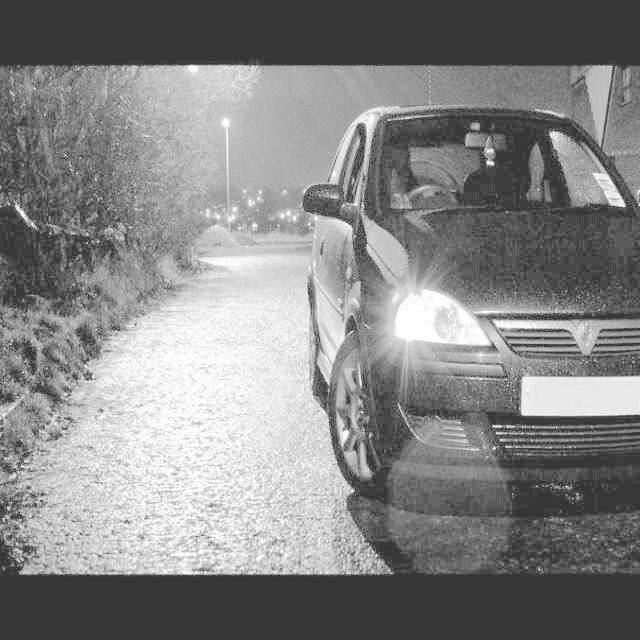Car: (299, 92, 640, 515)
